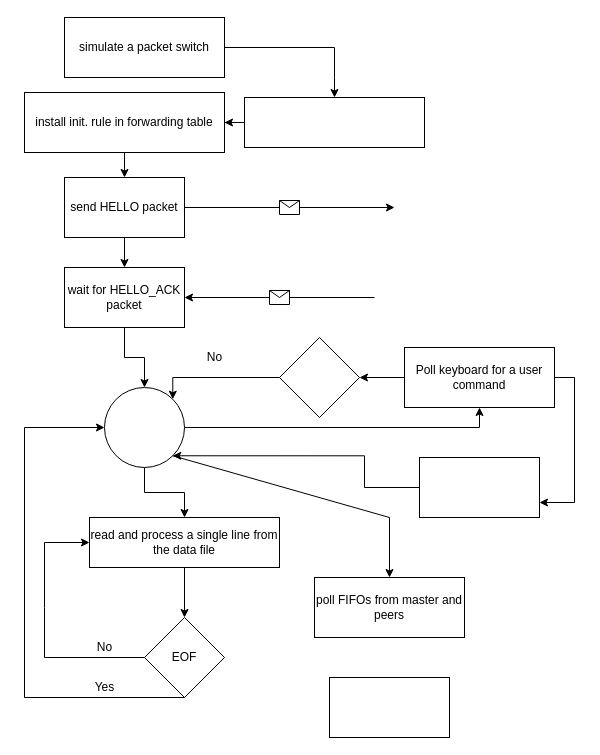
Some shapes in this 600 by 755 pixel diagram are drawn without their labels. Each missing label, with the centre of its shape:
create and init. PacketSwitch obj.: the point at 334,122
exit: the point at 319,377
info : show forwarding tables: the point at 479,487
polling loop: the point at 144,427
